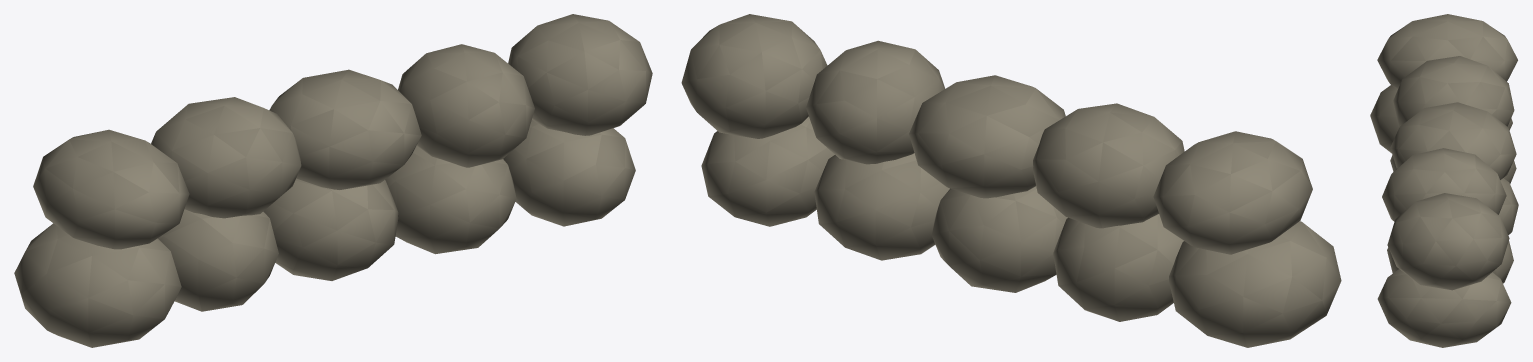
File: low-stone-boundary.glb
3 renders of one model, left to right at view 1: azimuth 30°, elevation 25°; view 2: azimuth 150°, elevation 25°; view 3: azimuth 270°, elevation 25°, orthographic. The views are drawn at different scales.
Visible parts, largest first — view 1: low-stone-boundary; view 2: low-stone-boundary; view 3: low-stone-boundary.
Part boxes in pixels (x1,y1,x2,y2): low-stone-boundary: (14,14,652,347); low-stone-boundary: (681,14,1341,347); low-stone-boundary: (1370,14,1518,347).
Bounding box in the file's own units: 1.8 × 0.5384 × 0.4709.
